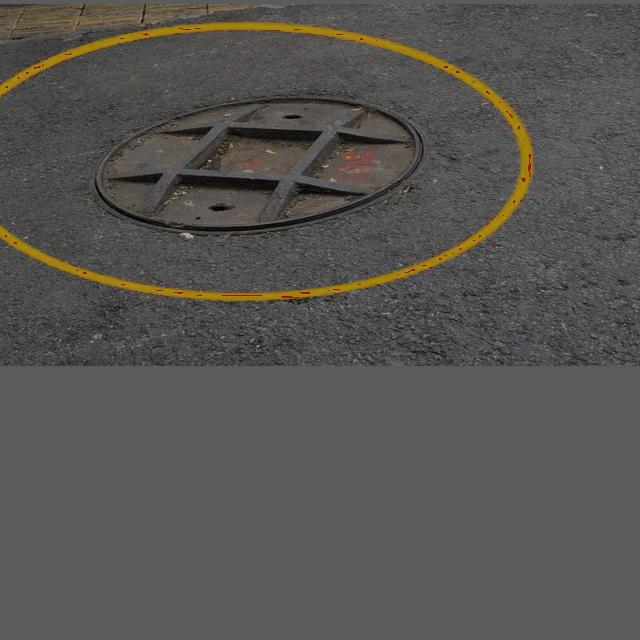good: (80, 87, 441, 240)
